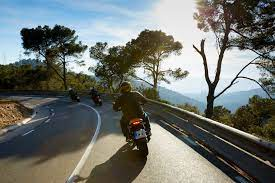moto: (119, 113, 156, 157), (92, 96, 103, 105), (70, 94, 81, 101)
person: (115, 83, 152, 120), (67, 86, 76, 95), (89, 89, 99, 97)
